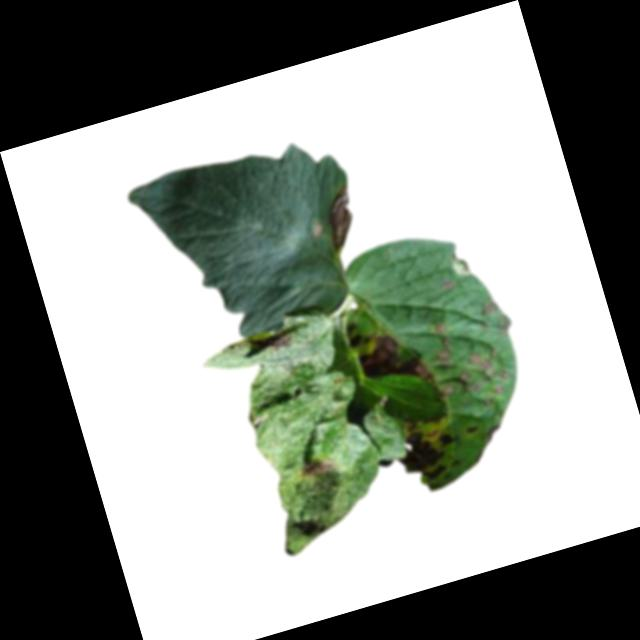Early_blight: (345, 313, 434, 400), (389, 422, 459, 488), (314, 184, 366, 253), (427, 321, 459, 374), (297, 453, 339, 482), (467, 346, 496, 374), (457, 369, 482, 395), (270, 329, 295, 349), (463, 419, 482, 436), (440, 382, 459, 398)
